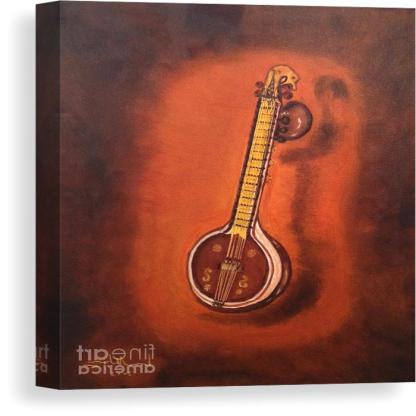Veena: (180, 56, 325, 320)
